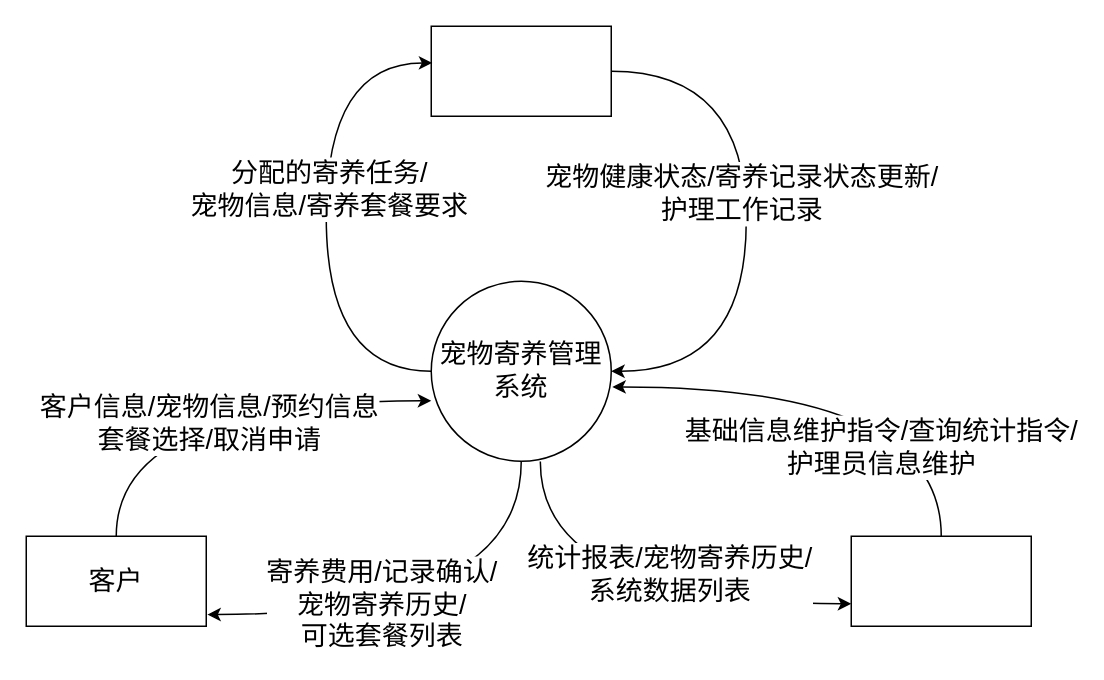
The diagram is 1104 pixels wide and 680 high, and some of its shapes have lost their labels. The centre of each missing label's shape, as x and y in pixels:
护理员: (x=520, y=70)
管理员: (x=940, y=580)
